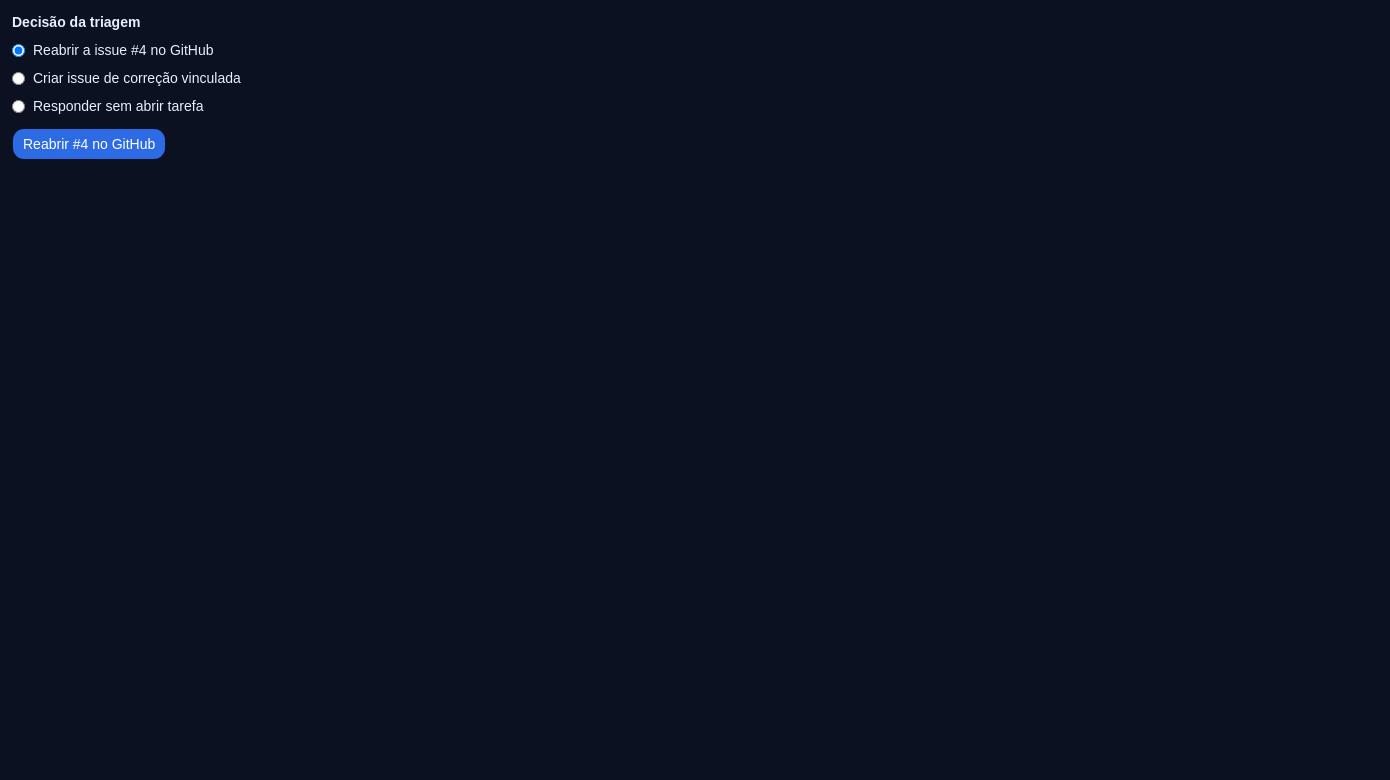
Test: FormularioDeTriagem › o botão de envio leva o texto da opção e a justificativa só aparece com "Fora do escopo"
This screenshot has width=1390, height=780.
Expected: the button "Reabrir #4 no GitHub" is shown, [12,128,166,160]
Step 1. Click the radio button labelled "Criar issue de correção vinculada" → click(18, 78), box [12,72,25,84]
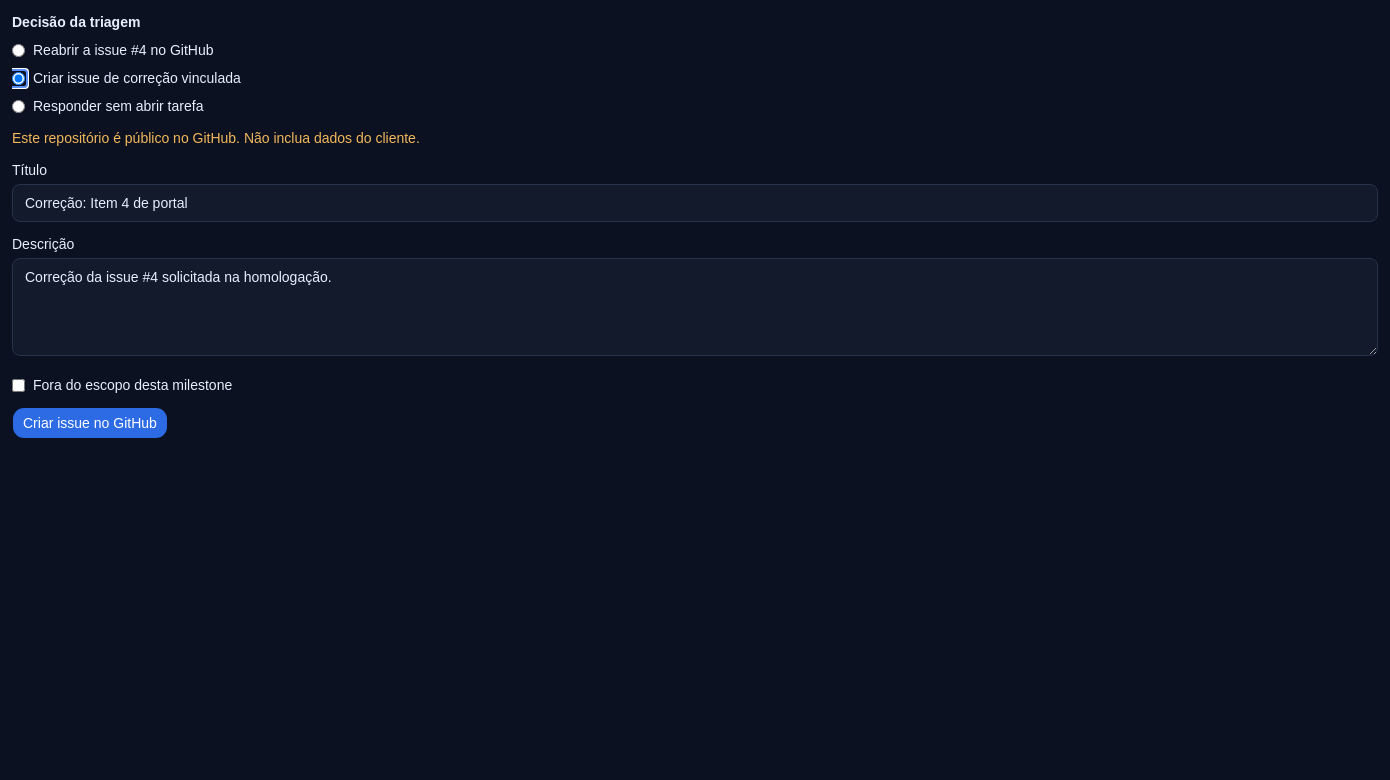
Expected: the field labelled "Justificativa" is not shown
Now the button "Criar issue no GitHub" is shown, box [12,407,168,439]
Step 2. Click the checkbox labelled "Fora do escopo desta milestone" → click(18, 385), box [12,378,25,392]
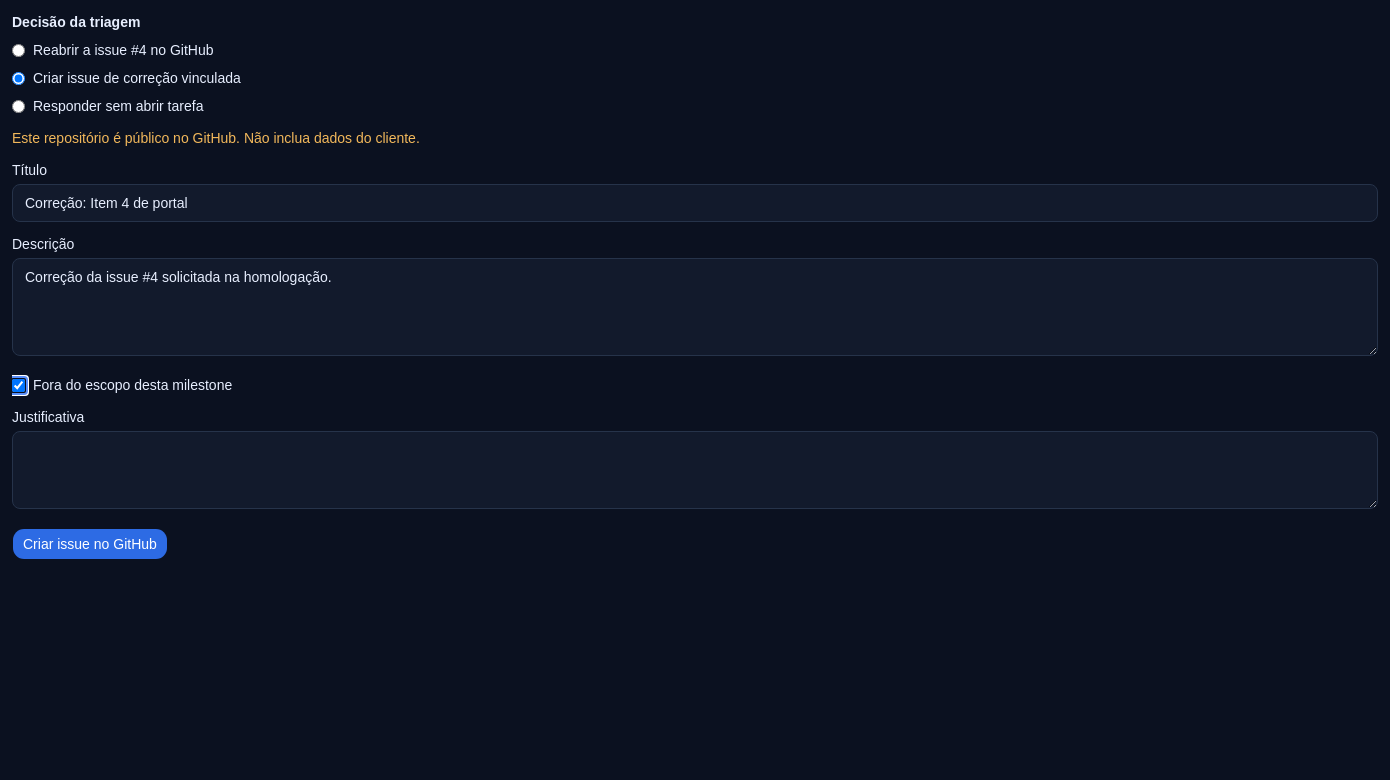
Now the text box labelled "Justificativa" is shown, box [12,431,1378,509]
